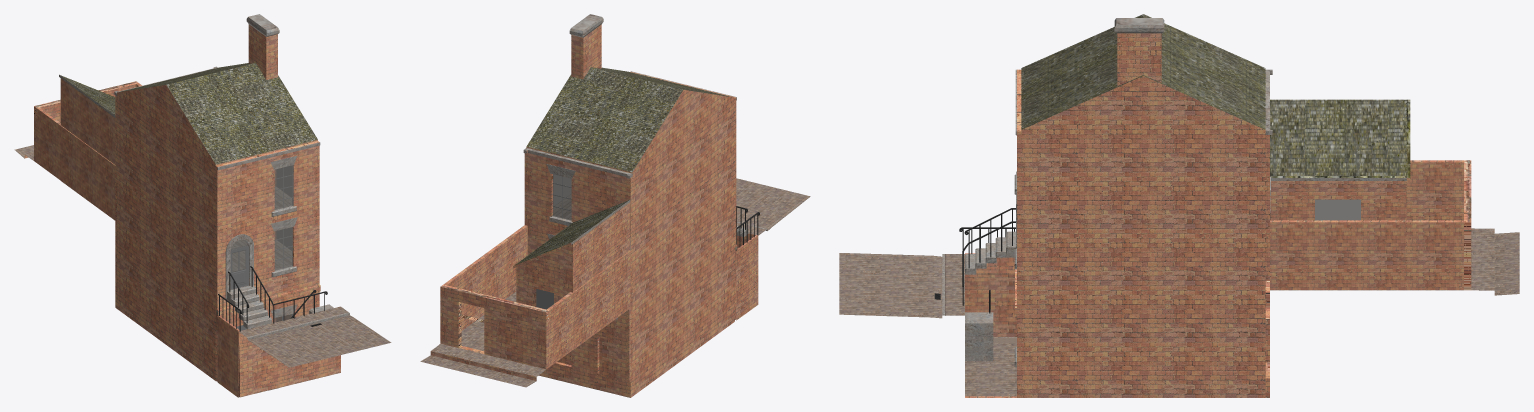
The model's file is TERRACE5.fbx.
3 renders of one model, left to right at view 1: azimuth 30°, elevation 25°; view 2: azimuth 150°, elevation 25°; view 3: azimuth 270°, elevation 25°, orthographic. The views are drawn at different scales.
Visible parts, largest first — view 1: arch.000; view 2: arch.000; view 3: arch.000.
Boxes of the visible parts, left/top/right/bottom form: arch.000: left=14, top=14, right=391, bottom=397; arch.000: left=420, top=14, right=810, bottom=397; arch.000: left=839, top=14, right=1519, bottom=397.
Bounding box in the file's own units: 659 × 1853 × 3067.
Materials: 9 (5 with a texture image).
